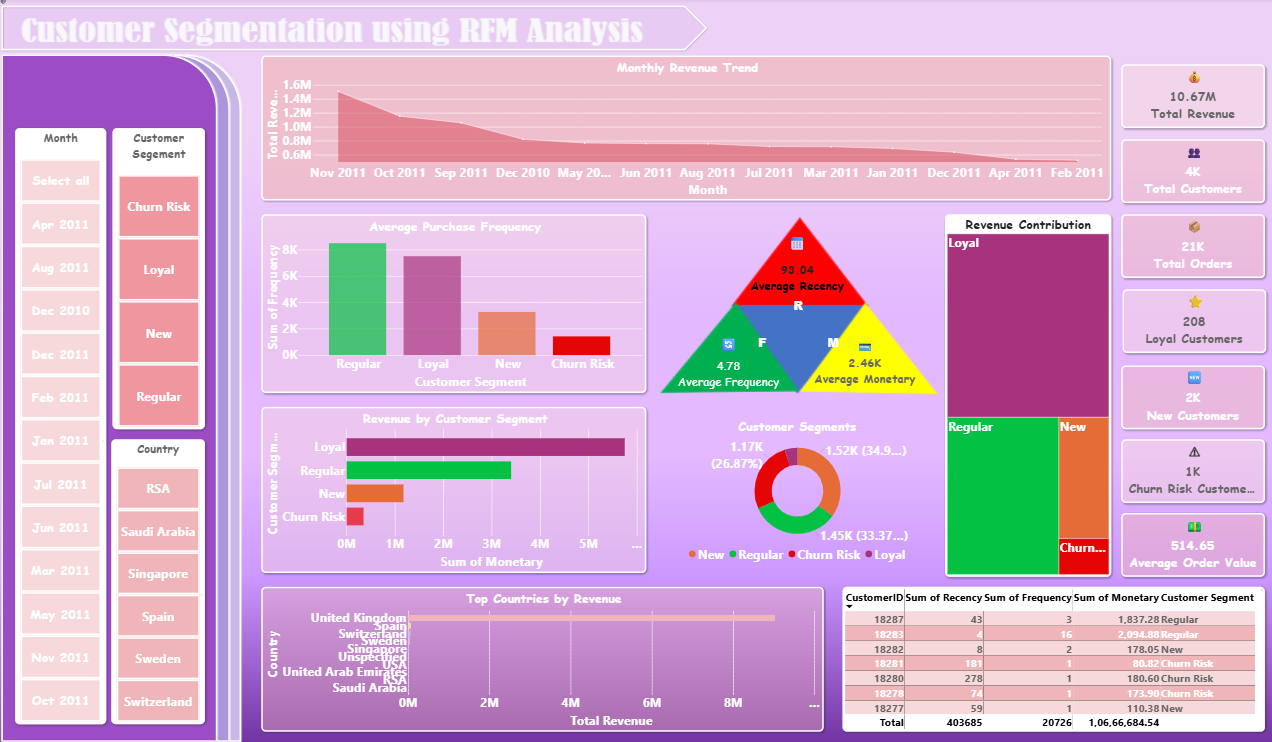

This screenshot's page, from the dashboard's own definition file:
{"tool":"powerbi","page":{"name":"Page 1","canvas":[8200,4800],"ordinal":0},"visuals":[{"type":"cardVisual","title":"👥 ","fields":{"Data":["Online Retail.Total Customers"]},"box":[140.7,975.8,993.4,404.4],"z":0},{"type":"donutChart","title":"Customer Segments","fields":{"Category":["RFM_Table.Customer Segment"],"Y":["CountNonNull(RFM_Table.CustomerID)"]},"box":[4367.3,2557.7,1576.4,1166.2],"z":1000},{"type":"clusteredBarChart","title":"Revenue by Customer Segment","fields":{"Category":["RFM_Table.Customer Segment"],"Y":["Sum(RFM_Table.Monetary)"]},"box":[1890.1,1455.8,2203.8,1214.5],"z":2000},{"type":"clusteredColumnChart","title":"Average Purchase Frequency","fields":{"Category":["RFM_Table.Customer Segment"],"Y":["Sum(RFM_Table.Frequency)"]},"box":[136.7,1447.7,1697.1,1222.5],"z":3000},{"type":"clusteredBarChart","title":"Top Countries by Revenue","fields":{"Category":["Online Retail.Country"],"Y":["Online Retail.Total Revenue"]},"box":[136.7,2774.8,3957.1,949.1],"z":4000},{"type":"treemap","title":"Revenue Contribution","fields":{"Group":["RFM_Table.Customer Segment"],"Values":["Sum(RFM_Table.Monetary)"]},"box":[6072.4,1447.7,2034.9,1632.7],"z":5000},{"type":"tableEx","fields":{"Values":["RFM_Table.CustomerID","Sum(RFM_Table.Recency)","Sum(RFM_Table.Frequency)","Sum(RFM_Table.Monetary)","RFM_Table.Customer Segment"]},"box":[5420.9,3788.2,2718.5,933],"z":6000},{"type":"slicer","title":"Country","fields":{"Values":["Online Retail.Country"]},"box":[6072.4,3144.8,2034.9,514.7],"z":7000},{"type":"lineChart","title":"Monthly Revenue Trend","fields":{"Category":["Online Retail.Month"],"Y":["Online Retail.Total Revenue"]},"box":[136.7,3788.2,5227.9,933],"z":8000},{"type":"slicer","title":"Customer Segement","fields":{"Values":["RFM_Table.Customer Segment"]},"box":[136.7,353.9,3989.3,522.8],"z":9000},{"type":"slicer","title":"Month","fields":{"Values":["Online Retail.Month"]},"box":[4214.5,353.9,3860.6,522.8],"z":10000},{"type":"actionButton","box":[0,0,100,40],"z":11000},{"type":"cardVisual","title":"📅 ","fields":{"Data":["RFM_Table.Average Recency"]},"box":[4764.6,1520.8,738.4,448.3],"z":12000},{"type":"cardVisual","title":"💰 ","fields":{"Data":["Online Retail.Total Revenue"]},"box":[1283.5,975.8,993.4,404.4],"z":13000},{"type":"cardVisual","title":"💳","fields":{"Data":["RFM_Table.Average Monetary"]},"box":[5186.6,2171.3,756,342.8],"z":14000},{"type":"cardVisual","title":"📦 ","fields":{"Data":["Online Retail.Total Orders"]},"box":[2435,975.8,993.4,404.4],"z":15000},{"type":"cardVisual","title":"🔄 ","fields":{"Data":["RFM_Table.Average Frequency"]},"box":[4316.3,2171.3,738.4,378],"z":16000},{"type":"cardVisual","title":"🆕 ","fields":{"Data":["RFM_Table.New Customers"]},"box":[4791,975.8,1010.9,404.4],"z":17000},{"type":"cardVisual","title":"⚠ ","fields":{"Data":["RFM_Table.Churn Risk Customers"]},"box":[5942.6,975.8,1010.9,404.4],"z":18000},{"type":"cardVisual","title":"⭐ ","fields":{"Data":["RFM_Table.Loyal Customers"]},"box":[3630.6,975.8,993.4,404.4],"z":19000},{"type":"cardVisual","title":"💵 ","fields":{"Data":["Online Retail.Average Order Value"]},"box":[7059,975.8,1010.9,404.4],"z":20000},{"type":"textbox","title":"R","box":[4791,1925.2,685.7,228.6],"z":21000},{"type":"textbox","title":"F","box":[4623.9,2153.7,562.6,263.7],"z":22000},{"type":"textbox","title":"M","box":[5019.5,2153.7,685.7,228.6],"z":23000}]}

Visuals, with their boxes in screenshot pixels (x1, y1, x2, y2), scaled from the page's 8200x4800 canvas onto the 1272x742 screenshot:
"👥 " cardVisual: (22,151,176,213)
"Customer Segments" donutChart: (677,395,922,576)
"Revenue by Customer Segment" clusteredBarChart: (293,225,635,413)
"Average Purchase Frequency" clusteredColumnChart: (21,224,284,413)
"Top Countries by Revenue" clusteredBarChart: (21,429,635,576)
"Revenue Contribution" treemap: (942,224,1258,476)
tableEx - RFM_Table.CustomerID x Sum(RFM_Table.Recency): (841,586,1263,730)
"Country" slicer: (942,486,1258,566)
"Monthly Revenue Trend" lineChart: (21,586,832,730)
"Customer Segement" slicer: (21,55,640,136)
"Month" slicer: (654,55,1253,136)
actionButton: (0,0,16,6)
"📅 " cardVisual: (739,235,854,304)
"💰 " cardVisual: (199,151,353,213)
"💳" cardVisual: (805,336,922,389)
"📦 " cardVisual: (378,151,532,213)
"🔄 " cardVisual: (670,336,784,394)
"🆕 " cardVisual: (743,151,900,213)
"⚠ " cardVisual: (922,151,1079,213)
"⭐ " cardVisual: (563,151,717,213)
"💵 " cardVisual: (1095,151,1252,213)
"R" textbox: (743,298,850,333)
"F" textbox: (717,333,805,374)
"M" textbox: (779,333,885,368)
